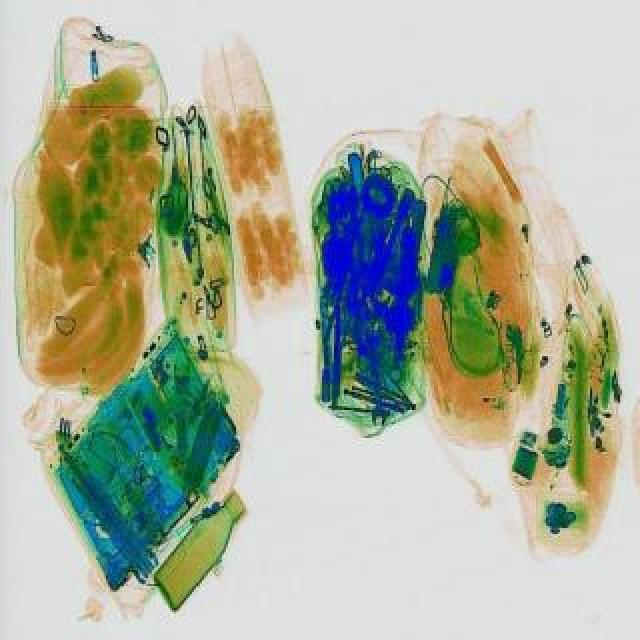scissors: (364, 328, 386, 426)
